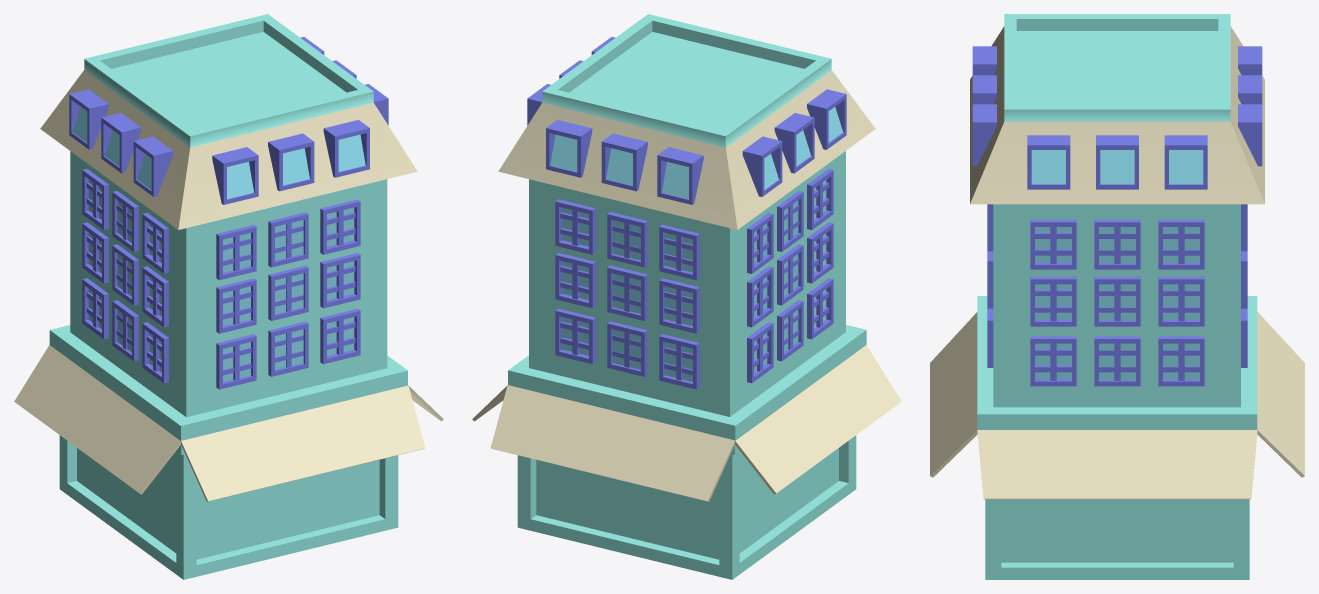
Rendered from Building 3.fbx.
3 renders of one model, left to right at view 1: azimuth 30°, elevation 25°; view 2: azimuth 150°, elevation 25°; view 3: azimuth 270°, elevation 25°, orthographic. The views are drawn at different scales.
Visible parts, largest first — view 1: building.035, building.031, building.032, building.033, building.034, building.030; view 2: building.035, building.031, building.032, building.033, building.034, building.030; view 3: building.031, building.035, building.033, building.032, building.034, building.030.
Boxes of the visible parts, <box> form: building.035: <box>49,151,407,441</box>; building.031: <box>40,14,417,229</box>; building.032: <box>82,169,360,389</box>; building.033: <box>14,345,443,501</box>; building.034: <box>59,435,398,579</box>; building.030: <box>69,37,388,204</box>; building.035: <box>508,151,866,440</box>; building.031: <box>498,14,875,229</box>; building.032: <box>555,169,833,389</box>; building.033: <box>472,345,901,501</box>; building.034: <box>517,435,856,579</box>; building.030: <box>527,37,846,204</box>; building.031: <box>970,14,1264,204</box>; building.035: <box>977,204,1257,429</box>; building.033: <box>930,312,1304,499</box>; building.032: <box>987,204,1247,386</box>; building.034: <box>985,499,1249,579</box>; building.030: <box>972,46,1262,189</box>.
Size of the model in its own units: 184 by 250 by 184.
